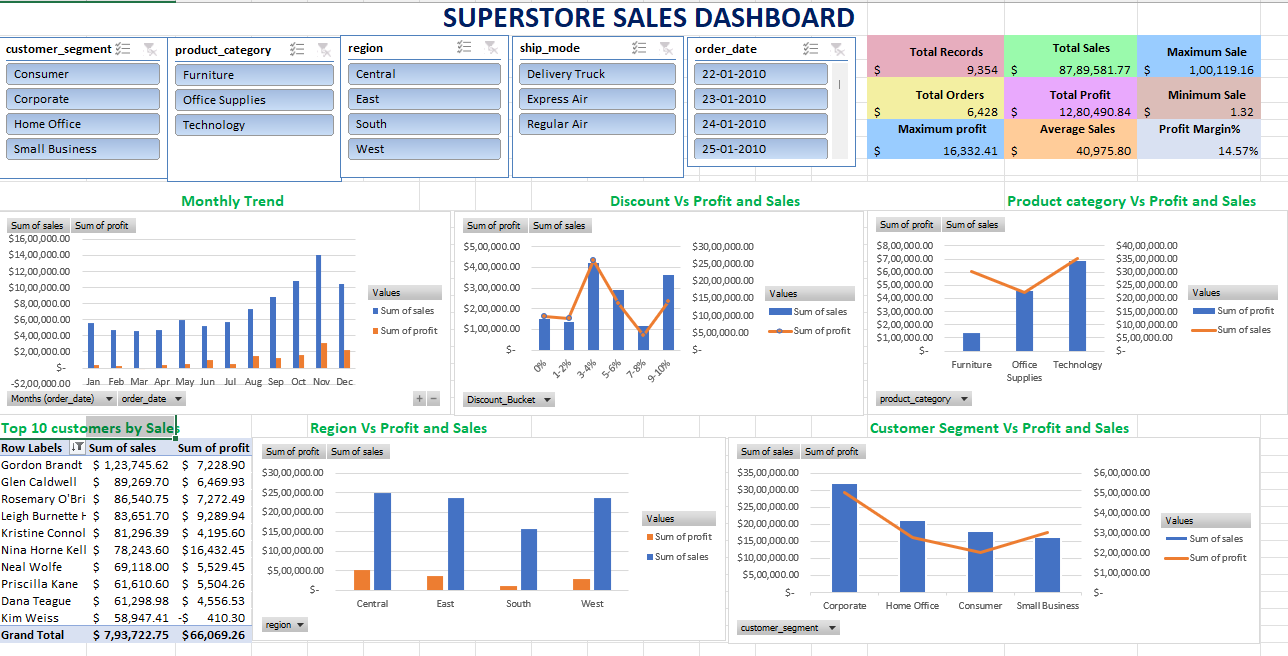

The page's visual inventory and layout, read from the dashboard file:
{"tool":"powerbi","page":{"name":"Page 1","canvas":[1280,720],"ordinal":0},"visuals":[{"type":"slicer","fields":{"Values":["samplesuperstore_cleaned.region"]},"box":[0,0,181.3,143.5],"z":0},{"type":"slicer","fields":{"Values":["samplesuperstore_cleaned.ship_mode"]},"box":[0,143.5,181.3,138],"z":1000},{"type":"slicer","fields":{"Values":["samplesuperstore_cleaned.product_category"]},"box":[0,281.5,181.3,128.6],"z":2000},{"type":"slicer","fields":{"Values":["samplesuperstore_cleaned.customer_segment"]},"box":[0,410.1,181.3,146.2],"z":3000},{"type":"slicer","title":"Order Date","fields":{"Values":["samplesuperstore_cleaned.order_date"]},"box":[0,556.2,181.3,163.8],"z":4000},{"type":"lineClusteredColumnComboChart","title":" sales and  profit by product_category","fields":{"Category":["samplesuperstore_cleaned.product_category"],"Y":["Sum(samplesuperstore_cleaned.sales)","Sum(samplesuperstore_cleaned.profit)"]},"box":[617.5,167.5,327.7,251.9],"z":5000},{"type":"clusteredColumnChart","title":" sales and profit by region","fields":{"Category":["samplesuperstore_cleaned.region"],"Y":["Sum(samplesuperstore_cleaned.sales)","Sum(samplesuperstore_cleaned.profit)"]},"box":[223.8,166.2,386.2,252.5],"z":6000},{"type":"textbox","box":[309.9,0,748.4,66.3],"z":7000},{"type":"cardVisual","title":"Max Sale","fields":{"Data":["samplesuperstore_cleaned.Max Sale"]},"box":[886.4,54.1,190.8,100.1],"z":8000},{"type":"cardVisual","title":"Min Sale","fields":{"Data":["samplesuperstore_cleaned.Min Sale"]},"box":[1077.3,54.1,173.2,101.5],"z":9000},{"type":"cardVisual","title":"Profit Margin%","fields":{"Data":["samplesuperstore_cleaned.Progit Margin%"]},"box":[713.2,54.1,173.2,100.1],"z":10000},{"type":"cardVisual","title":"Total Orders","fields":{"Data":["samplesuperstore_cleaned.Total Orders"]},"box":[368.1,55.5,150.2,101.5],"z":11000},{"type":"cardVisual","title":"Total Profit","fields":{"Data":["samplesuperstore_cleaned.Total Profit"]},"box":[518.3,55.5,194.9,100.1],"z":12000},{"type":"cardVisual","title":"Total Sales","fields":{"Data":["samplesuperstore_cleaned.Total Sales"]},"box":[192.2,54.1,175.9,104.2],"z":13000},{"type":"lineChart","title":" Monthly Sales   Trend","fields":{"Category":["samplesuperstore_cleaned.order_date.Variation.Date Hierarchy.Month","samplesuperstore_cleaned.order_date.Variation.Date Hierarchy.Day"],"Y":["Sum(samplesuperstore_cleaned.sales)","Sum(samplesuperstore_cleaned.profit)"]},"box":[223.8,430.4,415.8,289.8],"z":14000},{"type":"lineStackedColumnComboChart","title":"Profit by Discount","fields":{"Y":["Sum(samplesuperstore_cleaned.profit)"],"Category":["samplesuperstore_cleaned.Discount_Bucket"]},"box":[640.1,430.4,355.9,289.6],"z":15000},{"type":"tableEx","title":"Top 10 Customers by Sales","fields":{"Values":["samplesuperstore_cleaned.customer_name","Sum(samplesuperstore_cleaned.sales)"]},"box":[996.1,430.4,269.3,289.6],"z":16000},{"type":"map","title":"Sales by State","fields":{"Category":["samplesuperstore_cleaned.state_or_province"],"Size":["Sum(samplesuperstore_cleaned.sales)"]},"box":[945.2,167.5,320.4,251.9],"z":17000}]}

Visuals, with their boxes on the page's 1280x720 design canvas (x1, y1, x2, y2). These are canvas units, not pixel positions in the 1288x656 screenshot, which may show the page scaled, cropped or inside an application window:
slicer - samplesuperstore_cleaned.region: (left=0, top=0, right=181, bottom=144)
slicer - samplesuperstore_cleaned.ship_mode: (left=0, top=144, right=181, bottom=282)
slicer - samplesuperstore_cleaned.product_category: (left=0, top=282, right=181, bottom=410)
slicer - samplesuperstore_cleaned.customer_segment: (left=0, top=410, right=181, bottom=556)
"Order Date" slicer: (left=0, top=556, right=181, bottom=720)
" sales and  profit by product_category" lineClusteredColumnComboChart: (left=618, top=168, right=945, bottom=419)
" sales and profit by region" clusteredColumnChart: (left=224, top=166, right=610, bottom=419)
textbox: (left=310, top=0, right=1058, bottom=66)
"Max Sale" cardVisual: (left=886, top=54, right=1077, bottom=154)
"Min Sale" cardVisual: (left=1077, top=54, right=1250, bottom=156)
"Profit Margin%" cardVisual: (left=713, top=54, right=886, bottom=154)
"Total Orders" cardVisual: (left=368, top=56, right=518, bottom=157)
"Total Profit" cardVisual: (left=518, top=56, right=713, bottom=156)
"Total Sales" cardVisual: (left=192, top=54, right=368, bottom=158)
" Monthly Sales   Trend" lineChart: (left=224, top=430, right=640, bottom=720)
"Profit by Discount" lineStackedColumnComboChart: (left=640, top=430, right=996, bottom=720)
"Top 10 Customers by Sales" tableEx: (left=996, top=430, right=1265, bottom=720)
"Sales by State" map: (left=945, top=168, right=1266, bottom=419)
